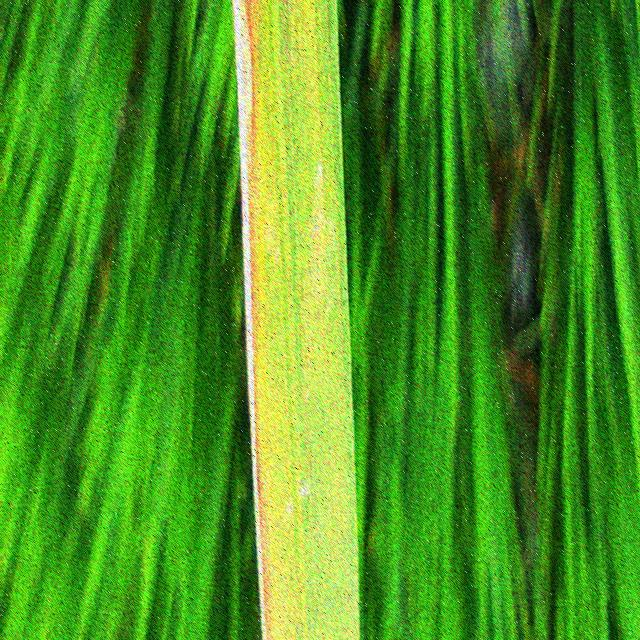BLB: (233, 0, 274, 640)
